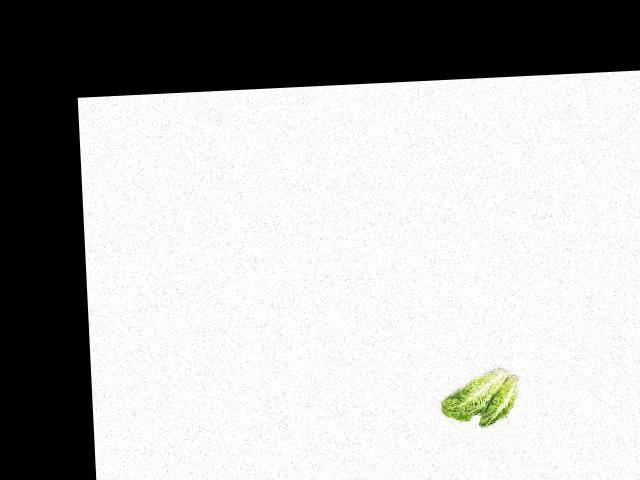lettuce: (438, 364, 505, 425)
